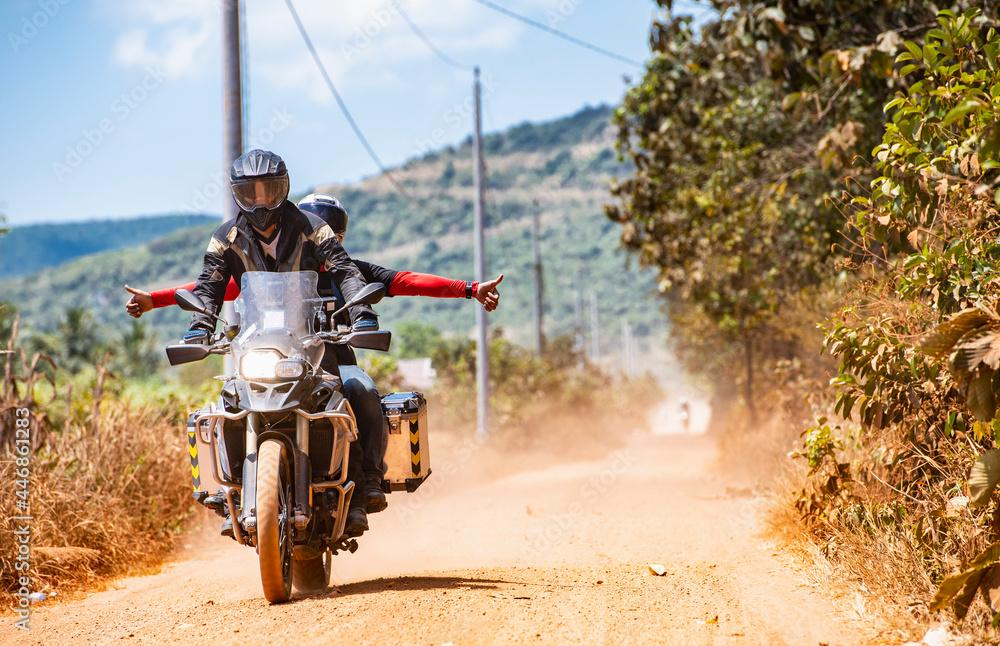helmet: (229, 148, 290, 233), (288, 192, 349, 260)
